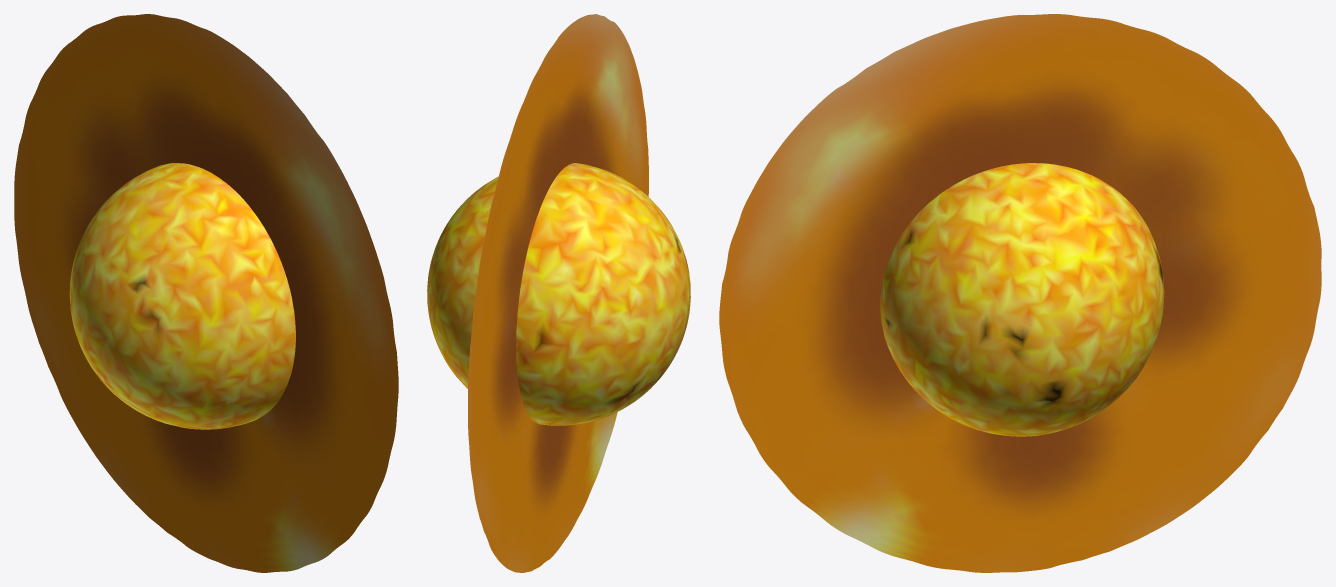
File: star.fbx
The picture shows the model from 3 angles, left to right: view 1: azimuth 30°, elevation 25°; view 2: azimuth 150°, elevation 25°; view 3: azimuth 270°, elevation 25°; orthographic projection. The views are drawn at different scales.
Visible parts, largest first — view 1: star; view 2: star; view 3: star.
Boxes of the visible parts, bbox=[...] form: star: bbox=[14, 14, 398, 572]; star: bbox=[427, 14, 690, 572]; star: bbox=[719, 14, 1321, 572].
Bounding box in the file's own units: 780 × 1672 × 1638.
